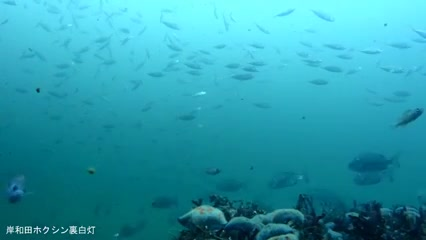smallfish: (338, 145, 406, 175), (261, 169, 317, 194), (390, 105, 426, 137)
